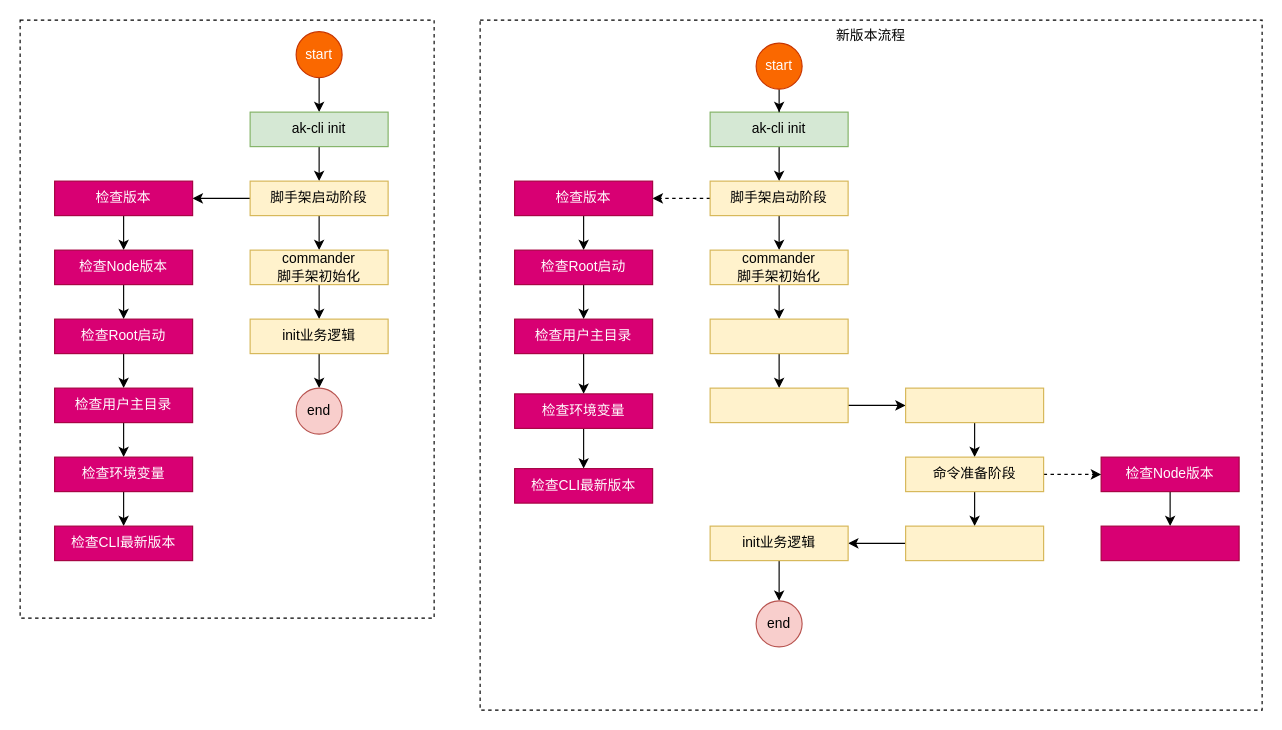
This 1282x730 diagram has some shape labels left out. Here are the shapes that lost their labels. From the top down, the box of each, then its label:
(19, 19, 434, 618): 旧版本流程
(709, 318, 848, 354): 动态加载 initCommand
(709, 387, 848, 423): new initCommand
(904, 387, 1044, 423): command constructor
(904, 525, 1044, 561): 命令的执行阶段
(1100, 525, 1239, 561): 参数初始化
